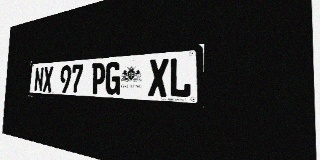7: (70, 64, 83, 93)
9: (59, 65, 72, 93)
G: (105, 62, 121, 95)
L: (169, 57, 192, 98)
N: (34, 67, 44, 92)
P: (91, 63, 106, 94)
X: (148, 58, 169, 97), (43, 66, 53, 92)
